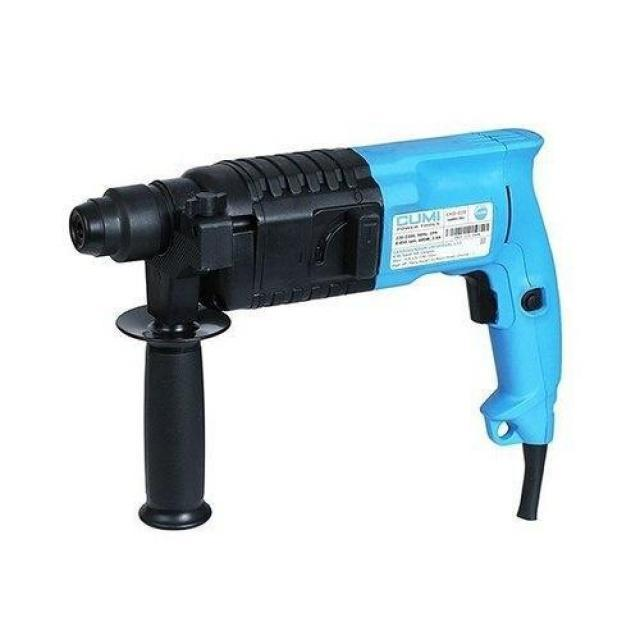drill: (68, 126, 566, 532)
